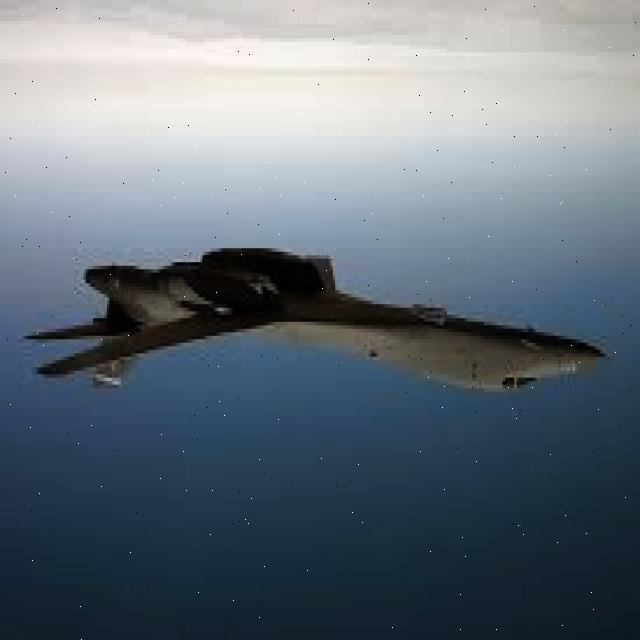B1: (10, 214, 624, 508)
